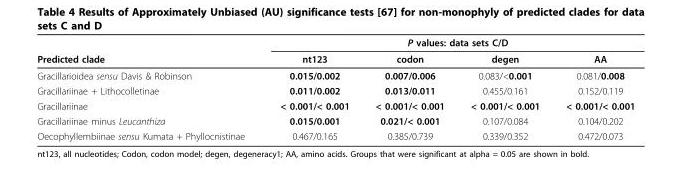table: (36, 36, 634, 141)
table column: (36, 36, 261, 141), (261, 36, 361, 141), (456, 36, 552, 141), (361, 36, 456, 141), (552, 36, 634, 141)
table column header: (36, 36, 634, 66)
table row: (36, 50, 634, 66), (36, 66, 634, 82), (36, 112, 634, 128), (36, 82, 634, 97), (36, 97, 634, 112), (36, 36, 634, 50), (36, 128, 634, 141)
table spanning cell: (36, 36, 261, 66), (261, 36, 634, 50)
